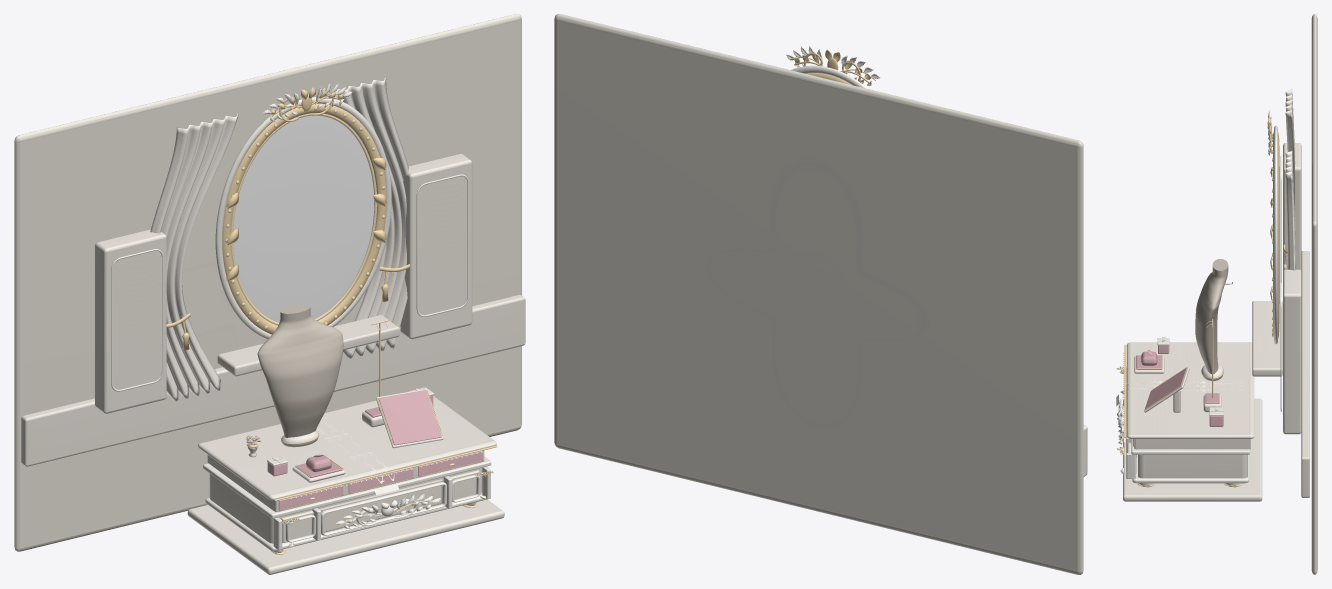
File: main-display-scene.glb
The picture shows the model from 3 angles, left to right: view 1: azimuth 30°, elevation 25°; view 2: azimuth 150°, elevation 25°; view 3: azimuth 270°, elevation 25°; orthographic projection. The views are drawn at different scales.
Visible parts, largest first — view 1: Fixed_Background_06 | warm oyster wall, Fixed_Background_01 | warm ivory lacquer, Fixed_01 | warm ivory lacquer, Fixed_Background_16 | softened silver mirror, Fixed_Background_08 | pale warm drapery, Fixed_Display | warm ivory velvet, Fixed_02 | ivory carved edges, Fixed_Background_04 | satin champagne brass, Fixed_Background_02 | ivory carved edges, Fixed_Display | pale blush suede, Fixed_07 | dusty blush silk, Fixed_Background_05 | champagne polished accents (+2 smaller); view 2: Fixed_Background_06 | warm oyster wall, Fixed_Background_04 | satin champagne brass, Fixed_Background_02 | ivory carved edges; view 3: Fixed_01 | warm ivory lacquer, Fixed_Background_01 | warm ivory lacquer, Fixed_Background_06 | warm oyster wall, Fixed_02 | ivory carved edges, Fixed_Display | warm ivory velvet, Fixed_Background_08 | pale warm drapery, Fixed_Background_02 | ivory carved edges, Fixed_Display | pale blush suede, Fixed_Background_04 | satin champagne brass, Fixed_04 | satin champagne brass, Fixed_09 | floral ecru lace cutout, Fixed_07 | dusty blush silk.
Part boxes in pixels (box(x1,y1,x2,y2)): Fixed_Background_06 | warm oyster wall: box(14, 14, 521, 551); Fixed_Background_01 | warm ivory lacquer: box(21, 83, 525, 466); Fixed_01 | warm ivory lacquer: box(187, 389, 504, 574); Fixed_Background_16 | softened silver mirror: box(233, 115, 374, 322); Fixed_Background_08 | pale warm drapery: box(150, 76, 408, 401); Fixed_Display | warm ivory velvet: box(257, 304, 343, 437); Fixed_02 | ivory carved edges: box(203, 387, 491, 551); Fixed_Background_04 | satin champagne brass: box(166, 86, 410, 350); Fixed_Background_02 | ivory carved edges: box(111, 84, 468, 391); Fixed_Display | pale blush suede: box(296, 390, 441, 477); Fixed_07 | dusty blush silk: box(267, 395, 482, 510); Fixed_Background_05 | champagne polished accents: box(225, 107, 385, 331); Fixed_Background_06 | warm oyster wall: box(554, 14, 1083, 574); Fixed_Background_04 | satin champagne brass: box(790, 49, 875, 84); Fixed_Background_02 | ivory carved edges: box(786, 46, 879, 88); Fixed_01 | warm ivory lacquer: box(1118, 342, 1262, 501); Fixed_Background_01 | warm ivory lacquer: box(1252, 110, 1309, 497); Fixed_Background_06 | warm oyster wall: box(1311, 14, 1317, 574); Fixed_02 | ivory carved edges: box(1117, 338, 1249, 483); Fixed_Display | warm ivory velvet: box(1195, 259, 1232, 373); Fixed_Background_08 | pale warm drapery: box(1285, 89, 1295, 270); Fixed_Background_02 | ivory carved edges: box(1268, 111, 1281, 411); Fixed_Display | pale blush suede: box(1136, 350, 1219, 408); Fixed_Background_04 | satin champagne brass: box(1267, 117, 1287, 337); Fixed_04 | satin champagne brass: box(1117, 344, 1242, 486); Fixed_09 | floral ecru lace cutout: box(1116, 381, 1245, 406); Fixed_07 | dusty blush silk: box(1133, 345, 1223, 446).
Size of the model in its own units: 0.7703 by 0.6086 by 0.3114.
Materials: 15 (5 with a texture image).
